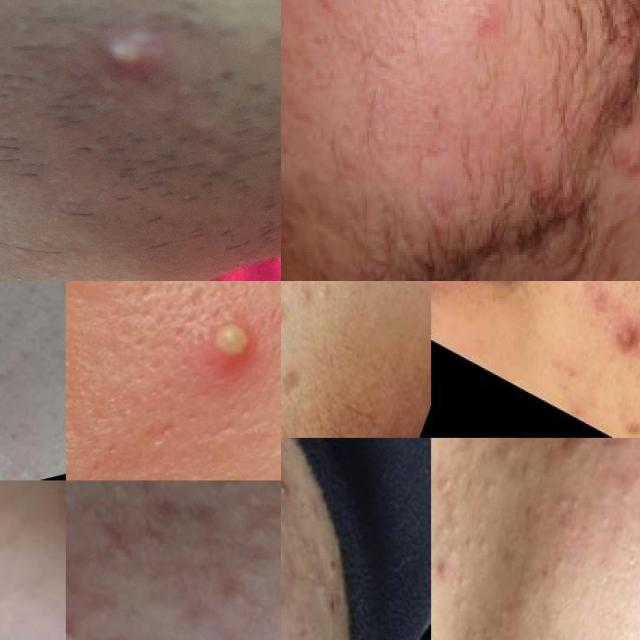comedone: (432, 551, 489, 639), (456, 451, 509, 514), (89, 480, 136, 522), (550, 474, 586, 519), (431, 450, 459, 498), (610, 471, 640, 511), (412, 281, 431, 323), (88, 624, 132, 640), (465, 625, 499, 640), (615, 437, 640, 450)
flat_wart: (281, 281, 374, 438)
papule: (431, 531, 465, 589), (578, 281, 619, 324), (613, 406, 640, 438), (551, 438, 592, 457), (629, 326, 640, 382)
pustule: (181, 283, 281, 395), (608, 316, 640, 363), (66, 614, 82, 640)
